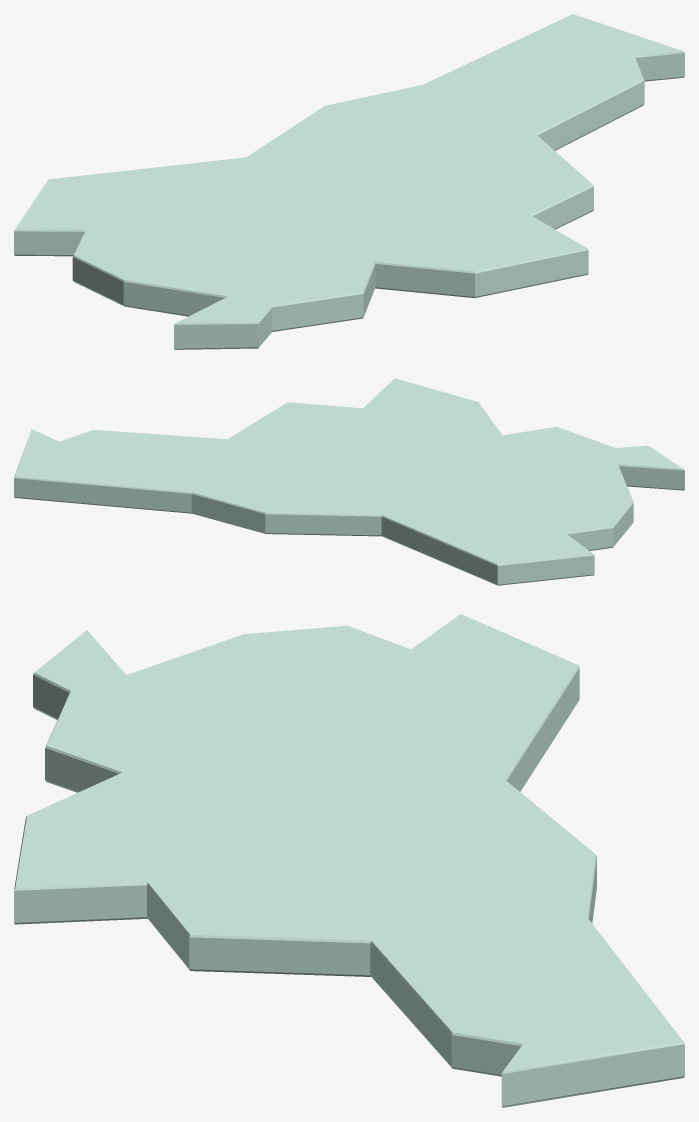
Rendered from SVN.glb.
The picture shows the model from 3 angles, top to bottom: view 1: azimuth 30°, elevation 25°; view 2: azimuth 150°, elevation 25°; view 3: azimuth 270°, elevation 25°; orthographic projection. The views are drawn at different scales.
Bounding box in the file's own units: 1.84 × 0.068 × 1.14.
